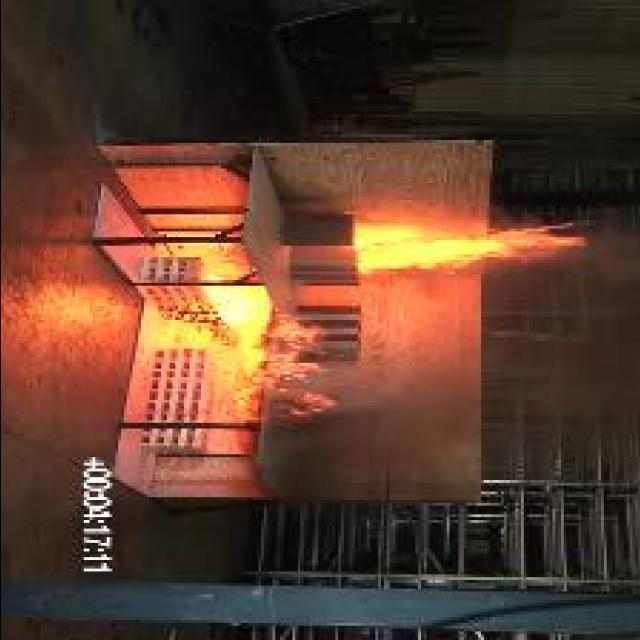Fire: (170, 288, 333, 421), (354, 222, 586, 276)
